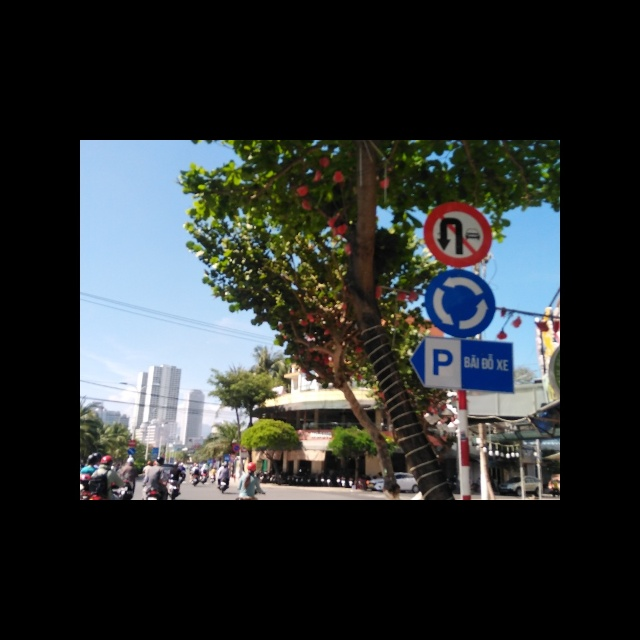Cấm xe ô tô quay đầu: (422, 202, 492, 268)
Nơi giao nhau chạy theo vòng xuyến: (424, 268, 498, 337)
Nơi đỗ xe: (407, 339, 516, 395)
